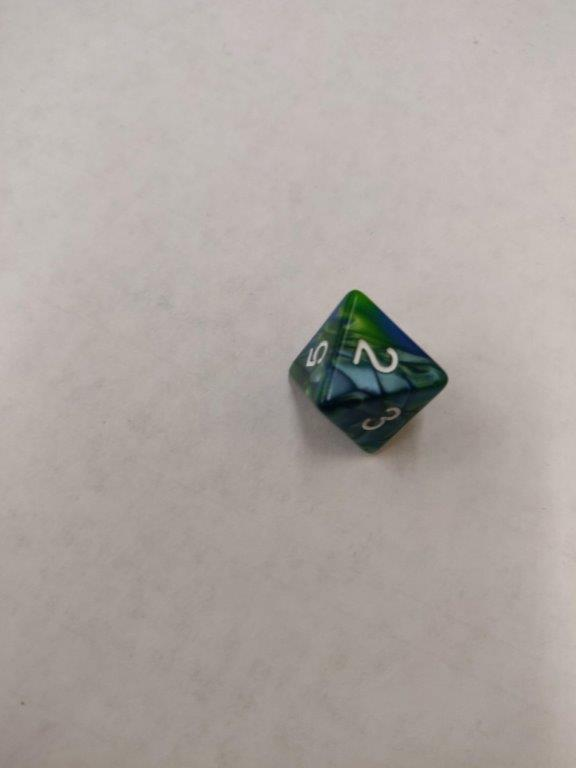d8-2: (288, 289, 449, 454)
